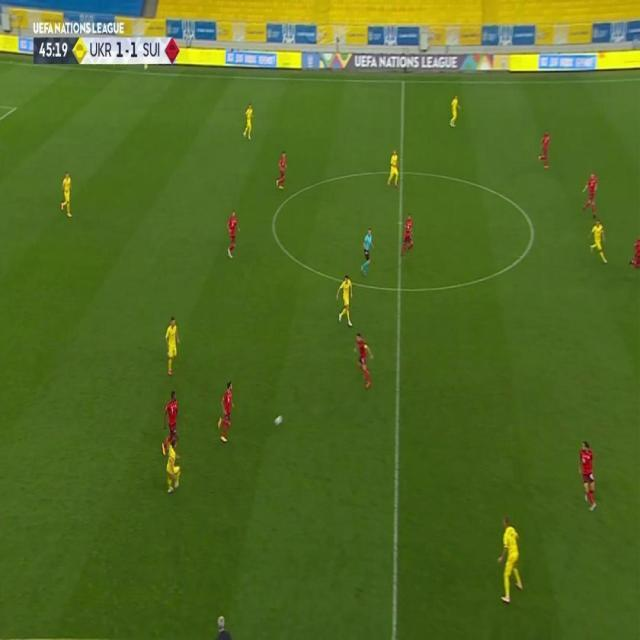ball: (275, 414, 284, 427)
player: (495, 516, 524, 606), (578, 440, 599, 513), (217, 380, 237, 445), (354, 333, 376, 390), (162, 392, 182, 454), (164, 315, 181, 377), (335, 274, 354, 329), (589, 218, 609, 267), (166, 440, 182, 496), (582, 170, 599, 222), (226, 210, 242, 261), (60, 170, 76, 221), (538, 129, 553, 173), (400, 213, 414, 259), (386, 150, 401, 190), (276, 151, 289, 193), (242, 103, 255, 142), (628, 232, 640, 273), (449, 94, 462, 130)
referee: (359, 227, 375, 279)
